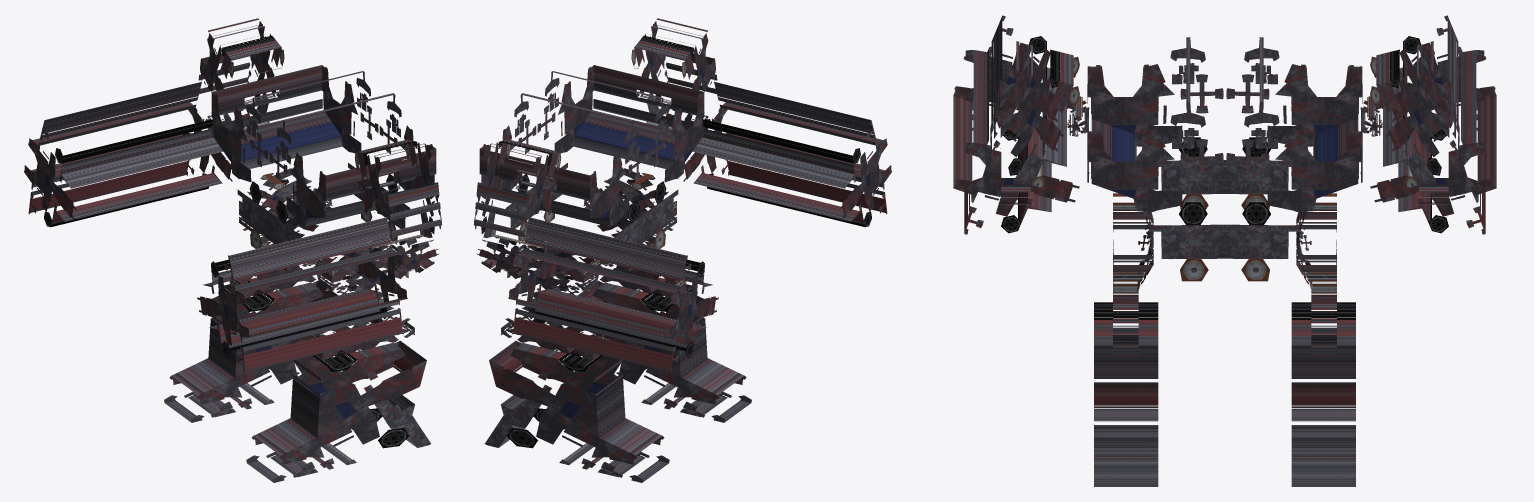
Rendered from Mek2.dae.
3 views of the same model, side by side, from view 1: azimuth 30°, elevation 25°; view 2: azimuth 150°, elevation 25°; view 3: azimuth 270°, elevation 25° (orthographic). The views are drawn at different scales.
Parts seen in each view (by area): view 1: polySurface16; view 2: polySurface16; view 3: polySurface16.
Part boxes in pixels (bbox=[...]): polySurface16: bbox=[24, 18, 441, 482]; polySurface16: bbox=[474, 18, 891, 482]; polySurface16: bbox=[953, 15, 1496, 486].
Size of the model in its own units: 10.01 by 13.14 by 17.54.
